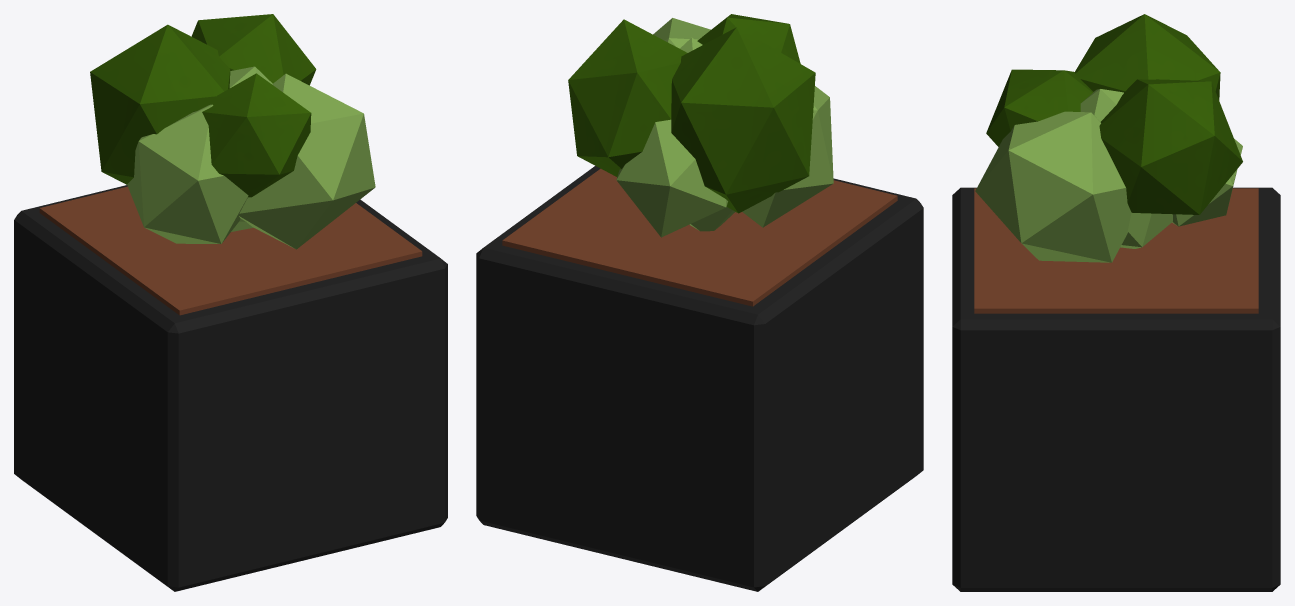
Rendered from SM_Build_Pflanzkuebel_Boden.fbx.
The picture shows the model from 3 angles, left to right: view 1: azimuth 30°, elevation 25°; view 2: azimuth 150°, elevation 25°; view 3: azimuth 270°, elevation 25°; orthographic projection. The views are drawn at different scales.
Parts seen in each view (by area): view 1: Pflanzkübel Boden; view 2: Pflanzkübel Boden; view 3: Pflanzkübel Boden.
Boxes of the visible parts, x1=… form: Pflanzkübel Boden: x1=14, y1=14, x2=447, y2=591; Pflanzkübel Boden: x1=476, y1=14, x2=923, y2=591; Pflanzkübel Boden: x1=952, y1=14, x2=1280, y2=591.
Size of the model in its own units: 0.6 by 0.984 by 0.6.
